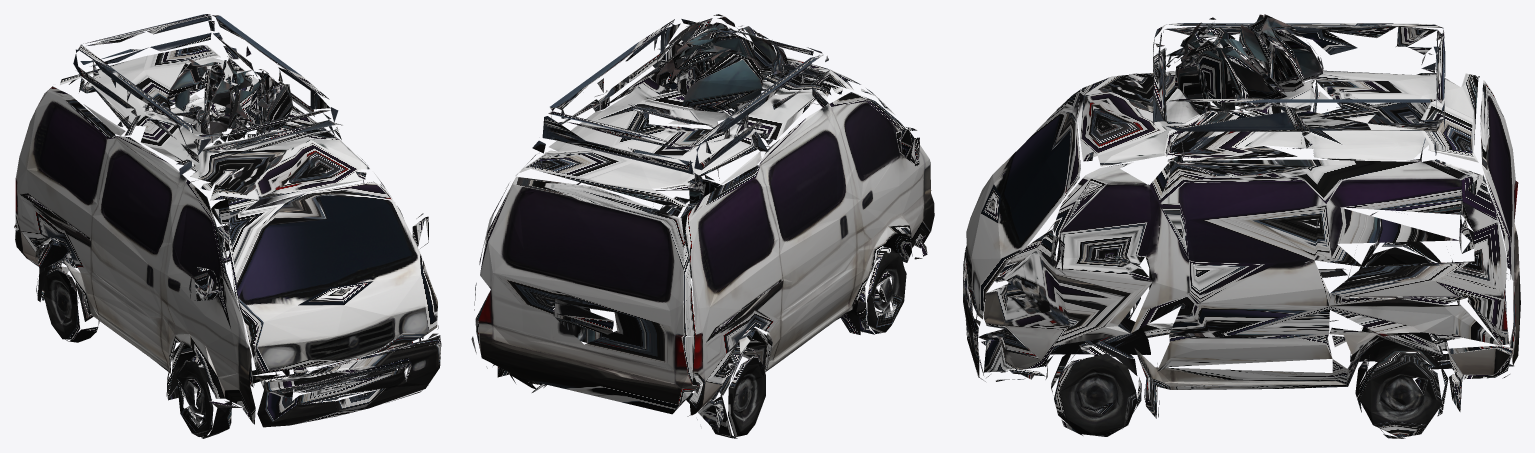
Rendered from amjad_van.glb.
The picture shows the model from 3 angles, left to right: view 1: azimuth 30°, elevation 25°; view 2: azimuth 150°, elevation 25°; view 3: azimuth 270°, elevation 25°; orthographic projection. The views are drawn at different scales.
Visible parts, largest first — view 1: world; view 2: world; view 3: world.
Part boxes in pixels (x1,y1,x2,y2): world: [14, 14, 441, 438]; world: [471, 14, 934, 438]; world: [963, 14, 1520, 438].
Size of the model in its own units: 0.5692 by 0.7016 by 0.999.
Materials: 1 (1 with a texture image).
